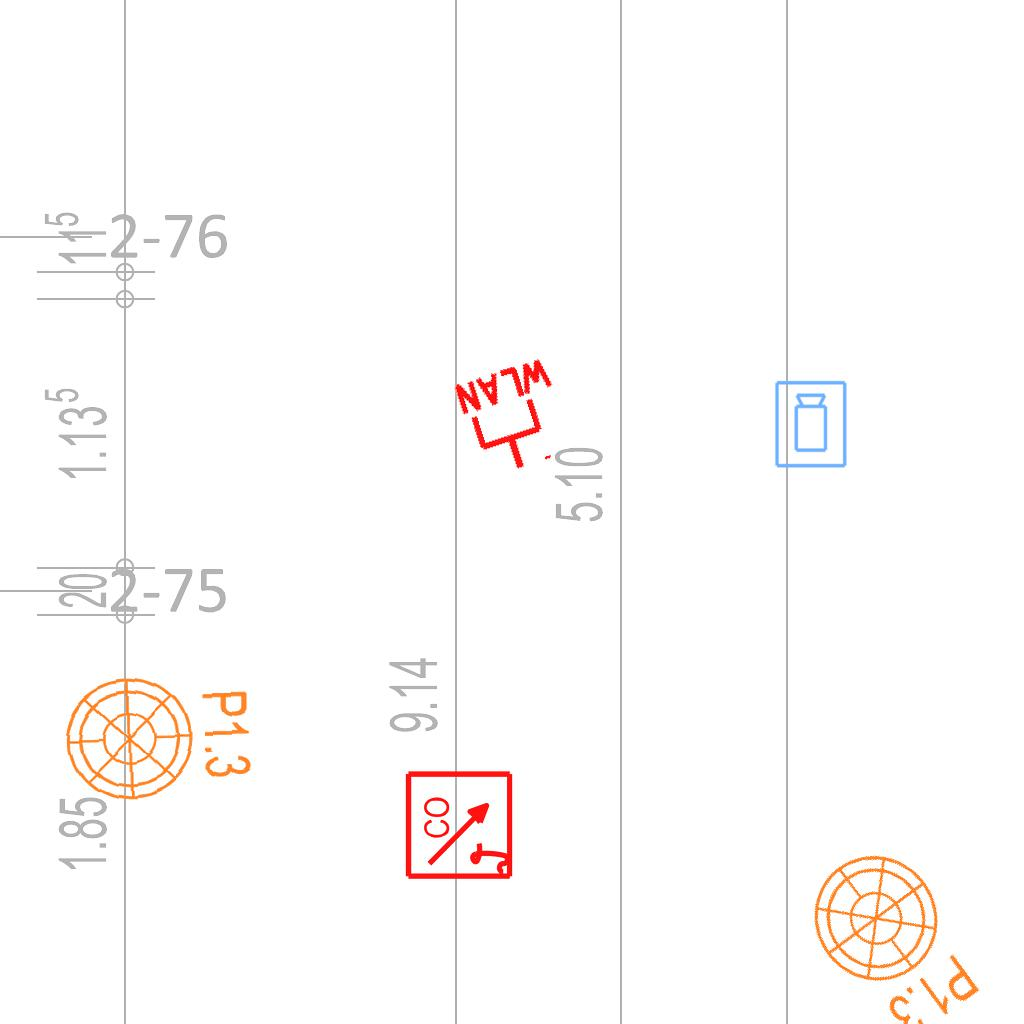Aufbaurundleuchte_LED_Treppenhaus: (776, 826, 1009, 1024), (59, 667, 272, 818)
KFO_Kamera_mit_Festobjektiv: (773, 379, 850, 470)
ROA_Rauchmelder_optisch_mit_Signalgeber_(Sockelsirene): (404, 768, 517, 881)
WLAN: (448, 353, 581, 485)
